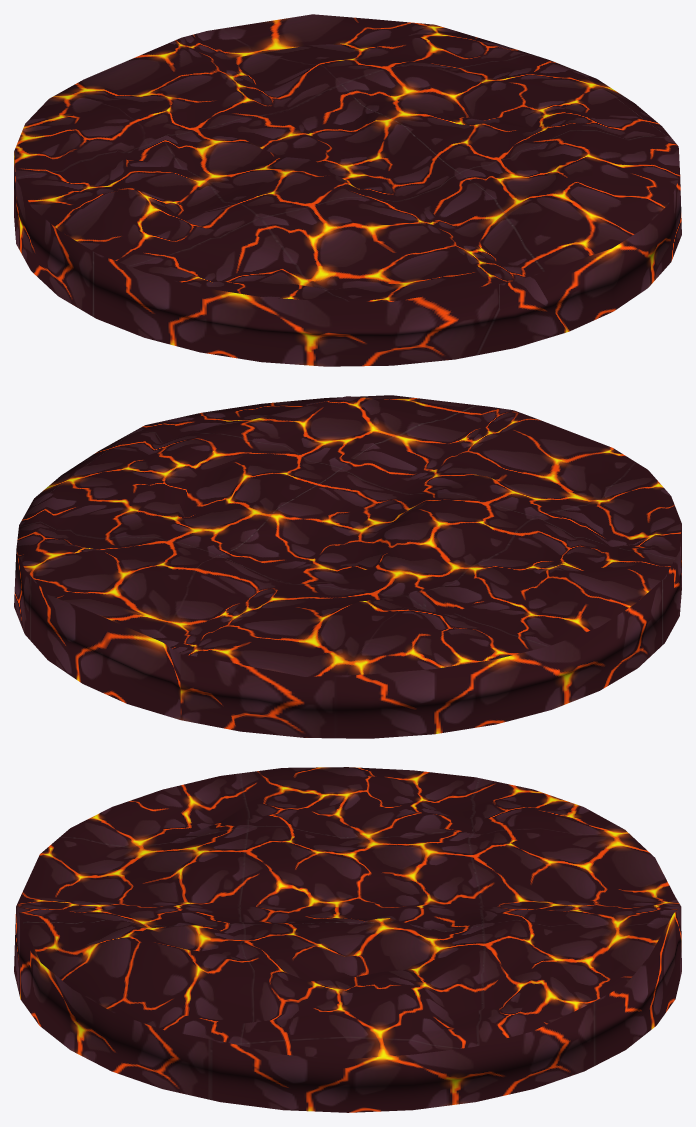
Rendered from Volcano Base.fbx.
The picture shows the model from 3 angles, top to bottom: view 1: azimuth 30°, elevation 25°; view 2: azimuth 150°, elevation 25°; view 3: azimuth 270°, elevation 25°; orthographic projection.
Parts seen in each view (by area): view 1: Volcano Base; view 2: Volcano Base; view 3: Volcano Base.
Boxes of the visible parts, box(x1,y1,x2,y2) form: Volcano Base: box(14, 14, 681, 366); Volcano Base: box(14, 395, 681, 738); Volcano Base: box(14, 767, 681, 1112).
Size of the model in its own units: 324 by 48.23 by 324.
1 material, 1 textured.
